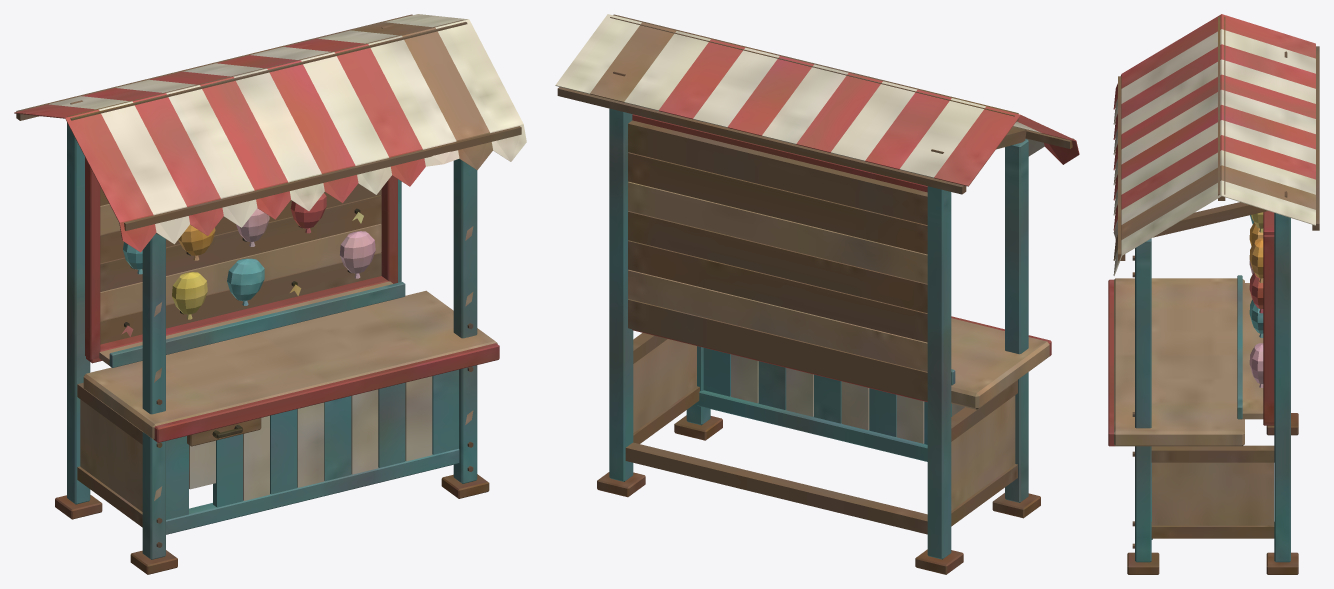
Rendered from CE02_balloon_dart_stall.glb.
The picture shows the model from 3 angles, left to right: view 1: azimuth 30°, elevation 25°; view 2: azimuth 150°, elevation 25°; view 3: azimuth 270°, elevation 25°; orthographic projection. The views are drawn at different scales.
Visible parts, largest first — view 1: Cast foot; view 2: Cast foot; view 3: Cast foot.
Boxes of the visible parts, x1,y1,x2,y2 form: Cast foot: [14, 14, 526, 574]; Cast foot: [555, 14, 1079, 574]; Cast foot: [1108, 14, 1319, 574].
Size of the model in its own units: 2.97 by 3 by 1.46.
15 materials, 15 textured.
